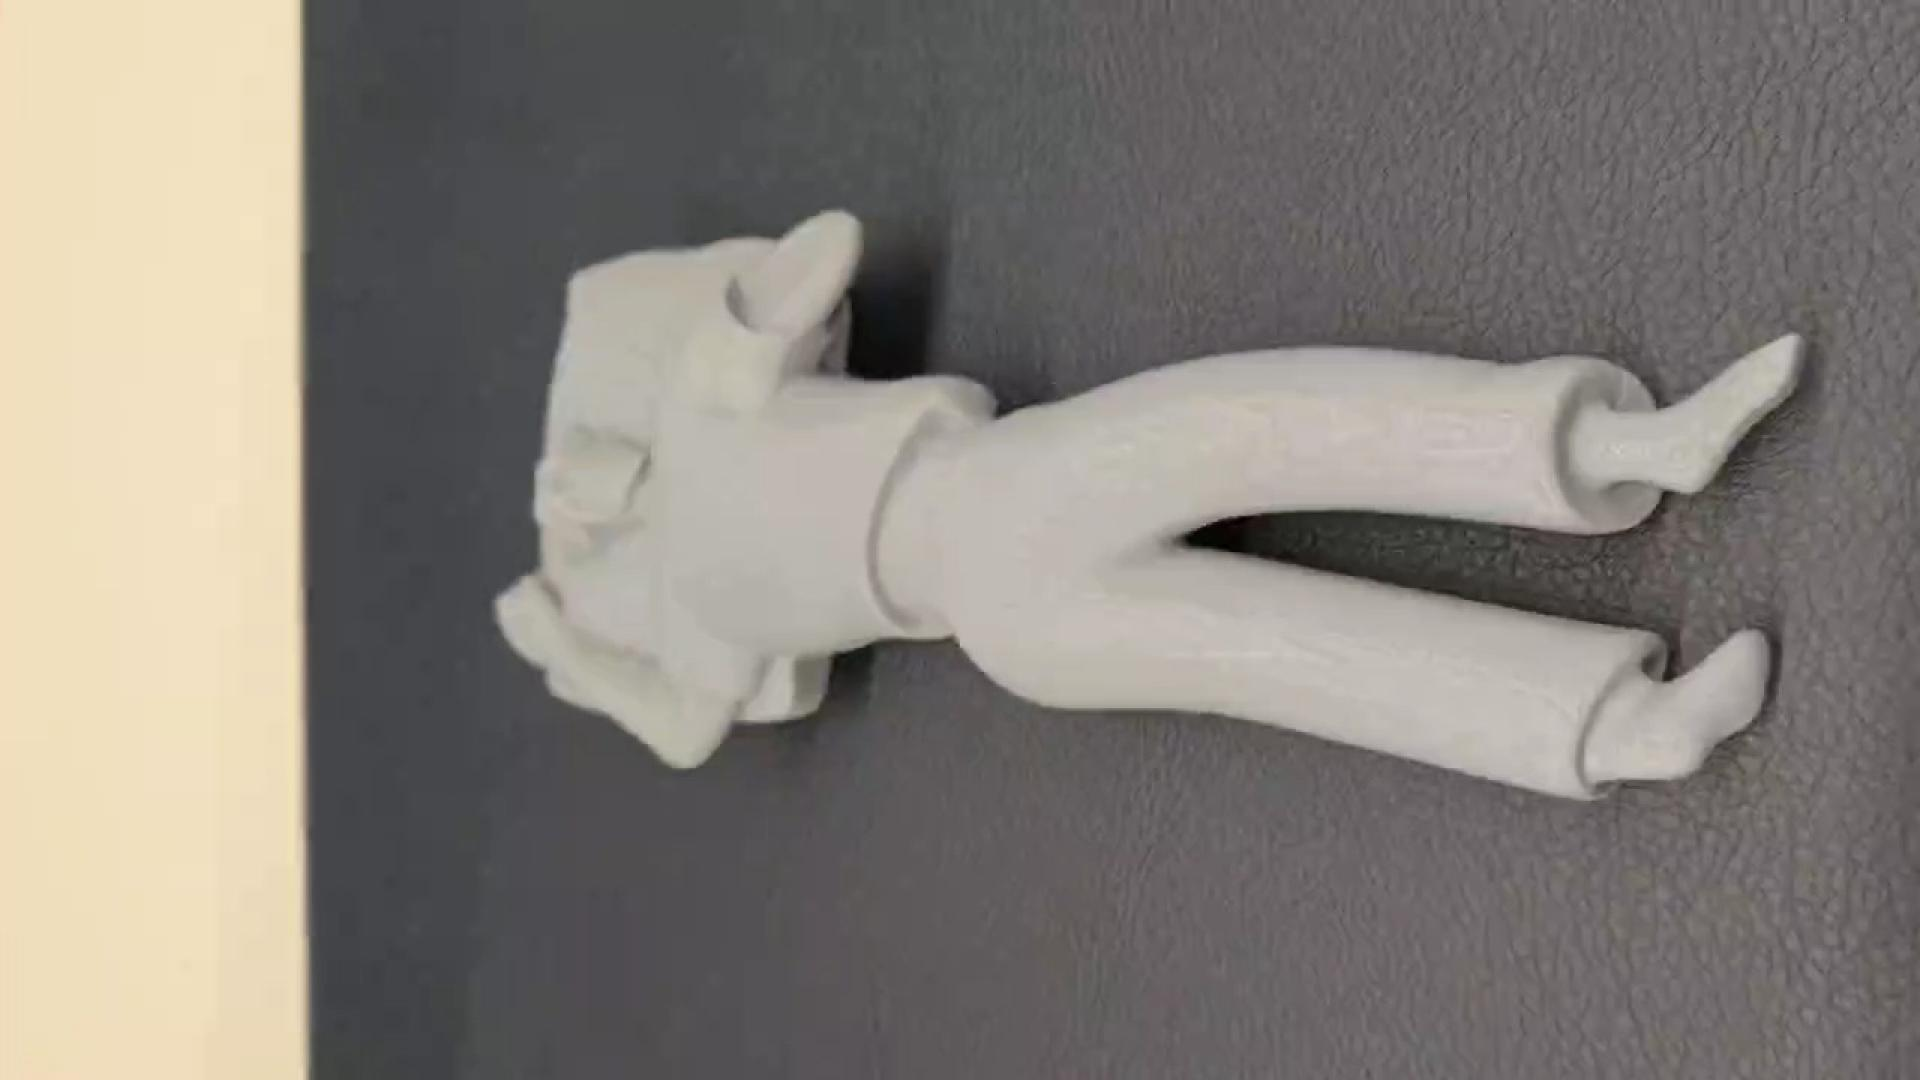Bad-style: (481, 202, 1807, 841)
